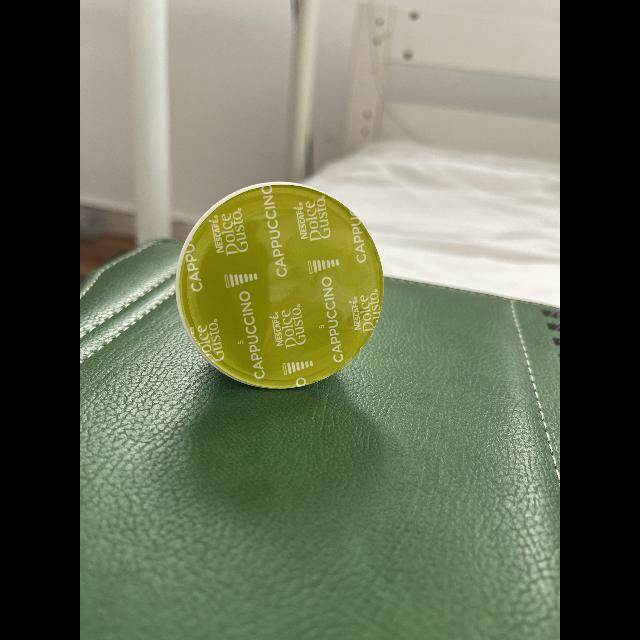intact_capsule: (164, 170, 400, 404)
